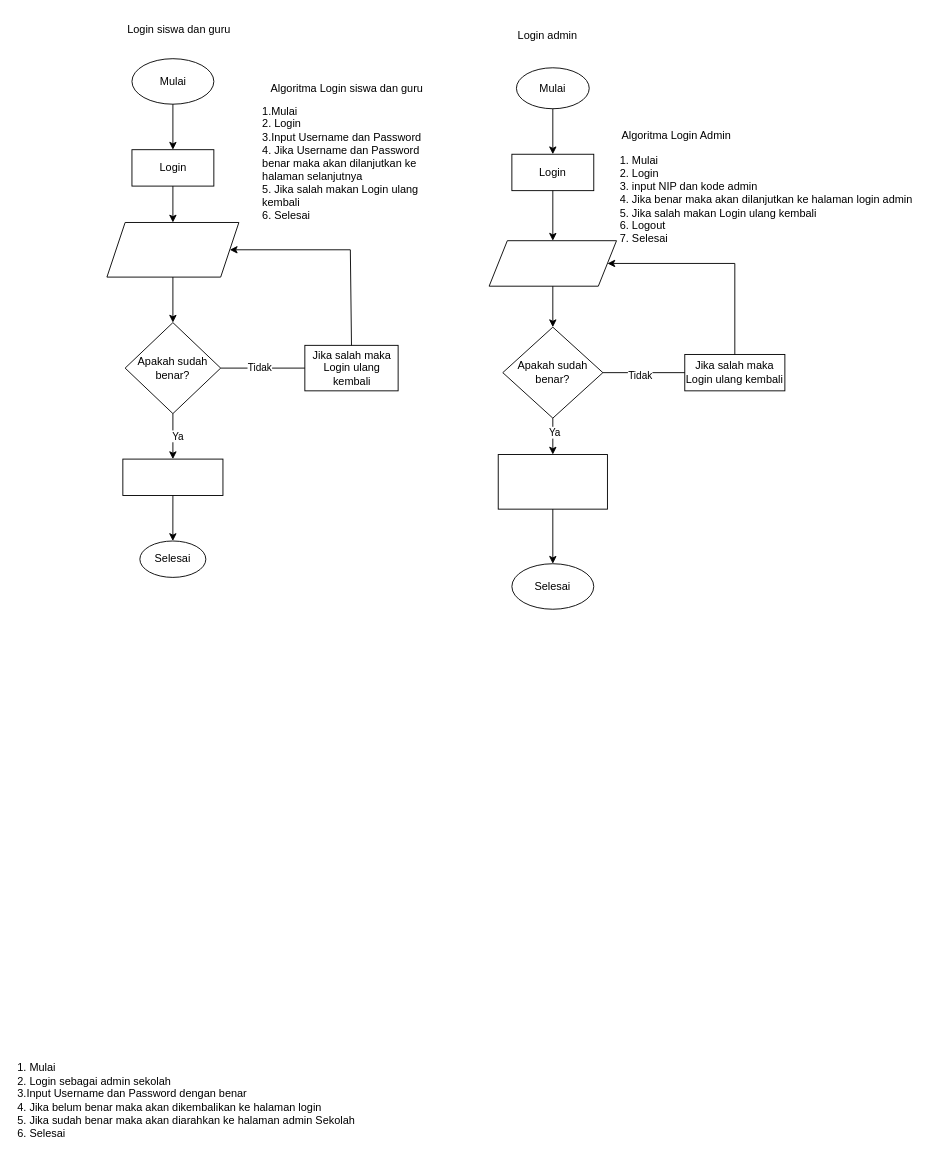
Some shapes in this 952 by 1156 pixel diagram are drawn without their labels. Here are the shapes that lost their labels. From the top down, the centre of each, then its label:
At (172,249): "Input Username dan Password".
At (552,263): "Input NIP dan kode admin".
At (172,476): "Masuk ke halaman selanjutnya".
At (552,481): "Masuk ke halaman admin untuk melanjutkan".
